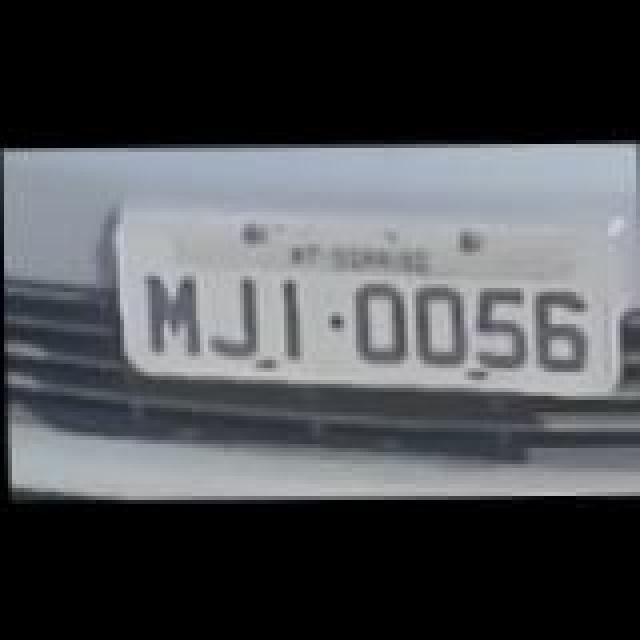1: (280, 282, 312, 362)
5: (468, 284, 532, 368)
6: (532, 290, 596, 374)
D: (348, 284, 412, 368), (414, 282, 474, 366)
J: (204, 278, 268, 362)
M: (140, 270, 204, 358)
